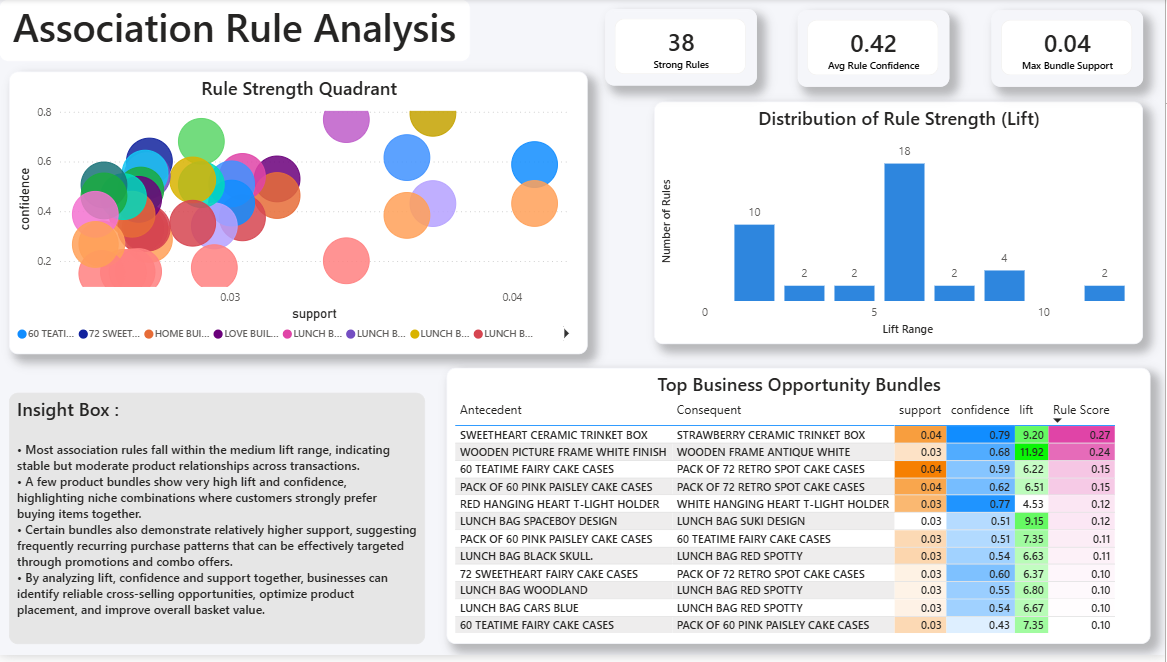

Layout of this report page (visuals, bound fields, positions):
{"tool":"powerbi","page":{"name":"Association Rule Analysis","canvas":[1280,720],"ordinal":1},"visuals":[{"type":"textbox","box":[0,0,517.3,68.6],"z":0},{"type":"scatterChart","title":"Rule Strength Quadrant","fields":{"X":["association_rules.support"],"Y":["association_rules.confidence"],"Size":["CountNonNull(association_rules.lift)"],"Series":["association_rules.Antecedent"]},"box":[11,79.6,635.3,310.1],"z":1000},{"type":"columnChart","title":"Distribution of Rule Strength (Lift)","fields":{"Y":["CountNonNull(association_rules.Rule)"],"Category":["association_rules.lift (bins)"]},"box":[719,112.5,536.5,266.2],"z":2000},{"type":"cardVisual","fields":{"Data":["association_rules.Avg Rule Confidence"]},"box":[877.5,12.3,166,83.7],"z":3000},{"type":"cardVisual","fields":{"Data":["association_rules.Strong Rules"]},"box":[665.5,11,166,83.7],"z":4000},{"type":"cardVisual","fields":{"Data":["association_rules.Max Bundle Support"]},"box":[1089.5,12.3,166,83.7],"z":5000},{"type":"tableEx","title":"Top Business Opportunity Bundles","fields":{"Values":["association_rules.Antecedent","association_rules.Consequent","association_rules.support","association_rules.confidence","association_rules.lift","association_rules.Rule Score"]},"box":[491.3,404.8,772.6,303.3],"z":6000},{"type":"textbox","title":"Insight Box :","box":[11,432.2,456.9,275.8],"z":7000}]}

Visuals, with their boxes in screenshot pixels (x1, y1, x2, y2), scaled from the page's 1280x720 canvas onto the 1167x662 screenshot:
textbox: [0, 0, 472, 63]
"Rule Strength Quadrant" scatterChart: [10, 73, 589, 358]
"Distribution of Rule Strength (Lift)" columnChart: [656, 103, 1145, 348]
cardVisual - association_rules.Avg Rule Confidence: [800, 11, 951, 88]
cardVisual - association_rules.Strong Rules: [607, 10, 758, 87]
cardVisual - association_rules.Max Bundle Support: [993, 11, 1145, 88]
"Top Business Opportunity Bundles" tableEx: [448, 372, 1152, 651]
"Insight Box :" textbox: [10, 397, 427, 651]
